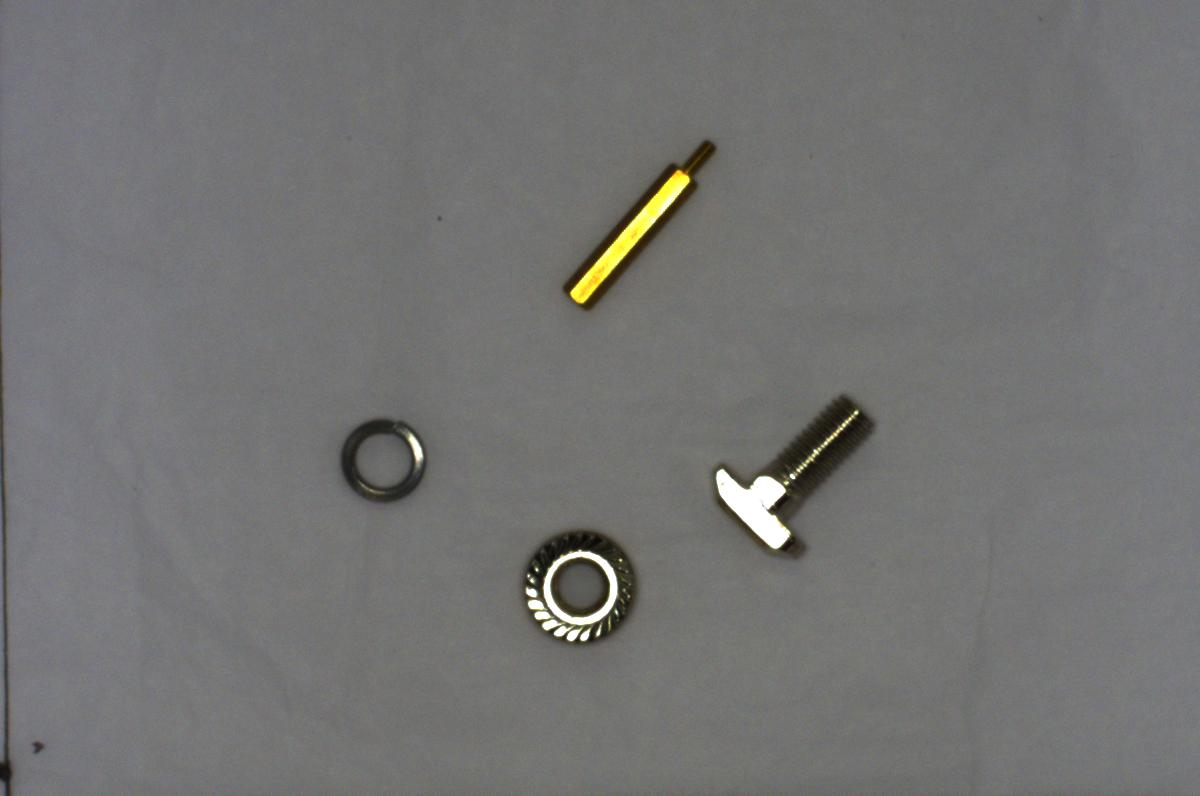Flange nut: (502, 518, 646, 652)
Hexagon pillar: (558, 128, 724, 312)
Spring washer: (322, 410, 437, 505)
T-shaped screw: (699, 386, 885, 572)
